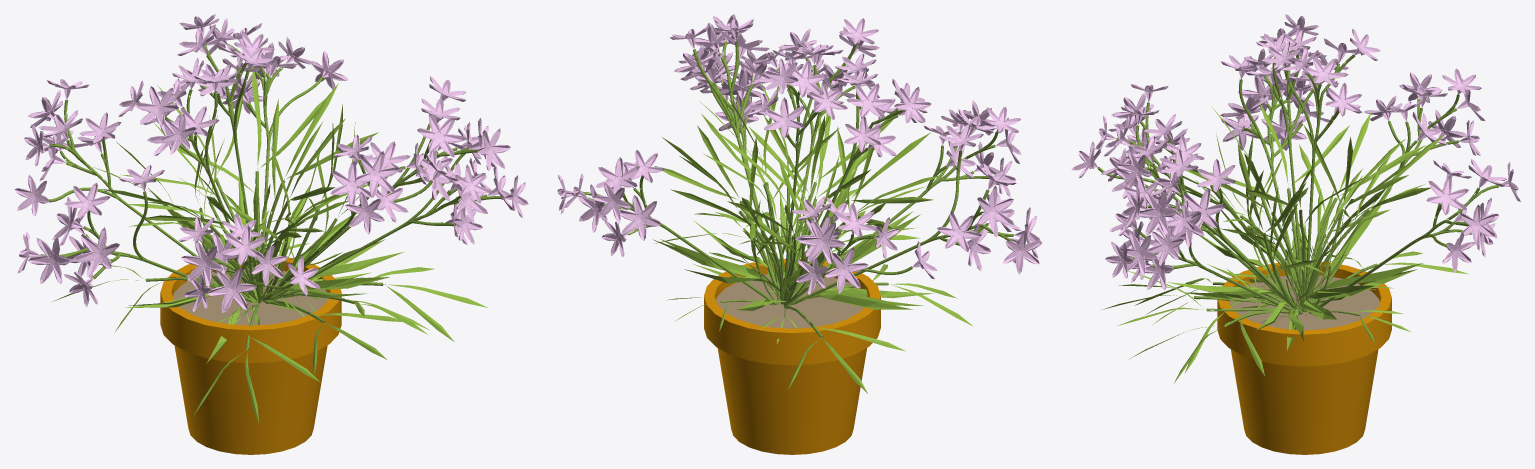
The model's file is flower.glb.
3 views of the same model, side by side, from view 1: azimuth 30°, elevation 25°; view 2: azimuth 150°, elevation 25°; view 3: azimuth 270°, elevation 25° (orthographic). The views are drawn at different scales.
Parts seen in each view (by area): view 1: Flowers, Grass, Pot, Stems, Tube002; view 2: Flowers, Grass, Pot, Stems, Tube002; view 3: Flowers, Grass, Pot, Stems, Tube002.
Part boxes in pixels (x1,y1,x2,y2): Flowers: (14, 14, 528, 313); Grass: (52, 66, 487, 423); Pot: (173, 268, 328, 454); Stems: (40, 44, 501, 349); Tube002: (160, 255, 341, 363); Flowers: (557, 14, 1042, 294); Grass: (653, 83, 973, 393); Pot: (716, 274, 866, 454); Stems: (582, 41, 1013, 338); Tube002: (704, 258, 880, 365); Flowers: (1071, 14, 1520, 290); Grass: (1102, 102, 1468, 383); Pot: (1229, 275, 1379, 454); Stems: (1097, 38, 1498, 326); Tube002: (1217, 261, 1391, 366).
Bounding box in the file's own units: 72.09 × 64.24 × 67.68.
